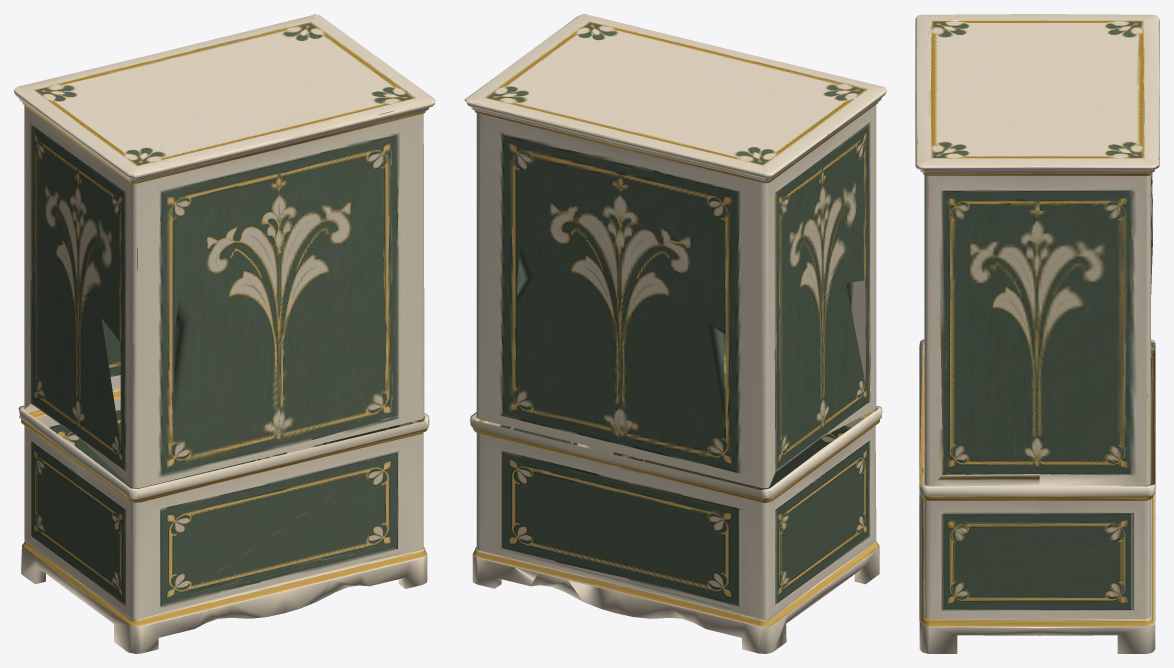
Rendered from item13.glb.
3 views of the same model, side by side, from view 1: azimuth 30°, elevation 25°; view 2: azimuth 150°, elevation 25°; view 3: azimuth 270°, elevation 25° (orthographic).
Visible parts, largest first — view 1: Mesh_0; view 2: Mesh_0; view 3: Mesh_0.
Part boxes in pixels (x1,y1,x2,y2): Mesh_0: (14,14,435,653); Mesh_0: (464,14,886,653); Mesh_0: (915,14,1159,653).
Size of the model in its own units: 0.6701 by 1 by 0.4507.
1 material, 1 textured.
